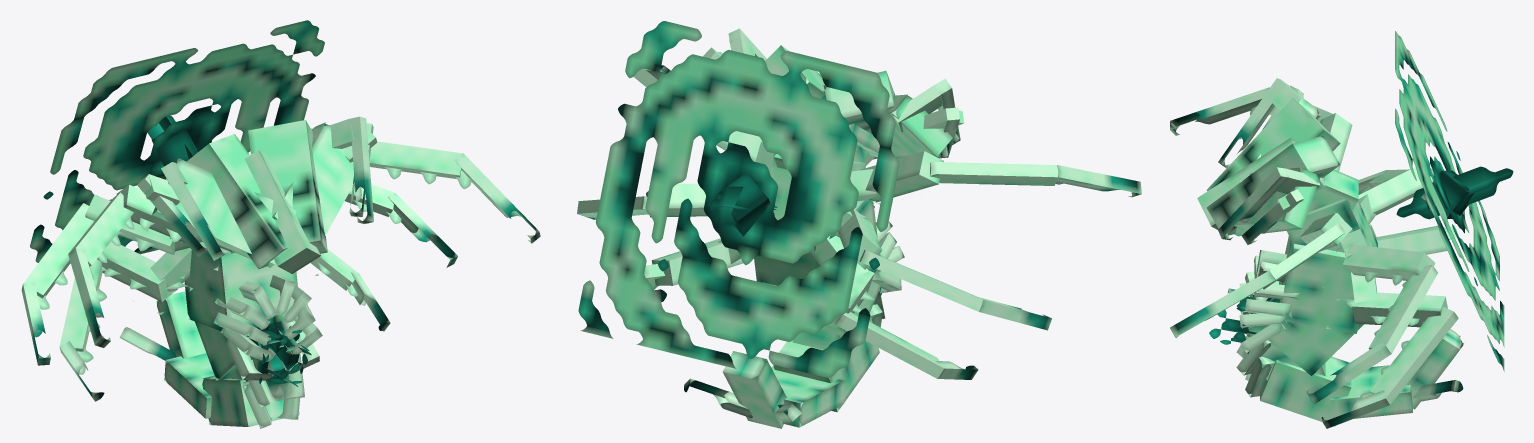
Rendered from spectre.obj.
3 views of the same model, side by side, from view 1: azimuth 30°, elevation 25°; view 2: azimuth 150°, elevation 25°; view 3: azimuth 270°, elevation 25° (orthographic). The views are drawn at different scales.
Visible parts, largest first — view 1: Effect01, Head, Body, ArmRightBottom, ArmRightTop, ArmRightMiddle, ArmLeftTop, MouthLeftTop, ArmLeftMiddle, MawRight04, MouthRightBottom, ArmLeftBottom (+10 smaller); view 2: Effect01, Body, ArmRightTop, Head, ArmRightMiddle, ArmRightBottom, ArmLeftBottom, ArmLeftMiddle, MouthRightTop, ArmLeftTop, MouthRightBottom, MawRight04 (+1 smaller); view 3: Body, Effect01, Head, ArmLeftMiddle, ArmLeftBottom, ArmLeftTop, ArmRightTop, ArmRightMiddle, MouthLeftTop, MawLeft04, MouthRightTop, ArmRightBottom (+6 smaller).
Part boxes in pixels (x1=…): Effect01: x1=30, y1=20, x2=324, y2=263; Head: x1=152, y1=120, x2=354, y2=273; Body: x1=119, y1=242, x2=299, y2=426; ArmRightBottom: x1=59, y1=241, x2=192, y2=401; ArmRightTop: x1=68, y1=184, x2=218, y2=347; ArmRightMiddle: x1=21, y1=195, x2=202, y2=365; ArmLeftTop: x1=369, y1=141, x2=540, y2=243; MouthLeftTop: x1=330, y1=116, x2=373, y2=223; ArmLeftMiddle: x1=345, y1=184, x2=457, y2=267; MawRight04: x1=225, y1=338, x2=284, y2=428; MouthRightBottom: x1=137, y1=174, x2=207, y2=256; ArmLeftBottom: x1=310, y1=249, x2=390, y2=331; Effect01: x1=578, y1=21, x2=899, y2=378; Body: x1=684, y1=145, x2=880, y2=428; ArmRightTop: x1=850, y1=151, x2=1141, y2=204; Head: x1=765, y1=45, x2=952, y2=165; ArmRightMiddle: x1=833, y1=209, x2=1051, y2=330; ArmRightBottom: x1=810, y1=236, x2=978, y2=379; ArmLeftBottom: x1=644, y1=238, x2=742, y2=302; ArmLeftMiddle: x1=577, y1=183, x2=707, y2=219; MouthRightTop: x1=891, y1=78, x2=960, y2=144; ArmLeftTop: x1=633, y1=65, x2=773, y2=173; MouthRightBottom: x1=923, y1=107, x2=964, y2=158; MawRight04: x1=869, y1=271, x2=901, y2=327; Body: x1=1248, y1=169, x2=1463, y2=426; Effect01: x1=1395, y1=31, x2=1513, y2=371; Head: x1=1197, y1=97, x2=1340, y2=236; ArmLeftMiddle: x1=1306, y1=229, x2=1437, y2=404; ArmLeftBottom: x1=1321, y1=272, x2=1458, y2=428; ArmLeftTop: x1=1170, y1=213, x2=1352, y2=337; ArmRightTop: x1=1170, y1=87, x2=1352, y2=171; ArmRightMiddle: x1=1358, y1=167, x2=1434, y2=224; MouthLeftTop: x1=1218, y1=167, x2=1320, y2=240; MawLeft04: x1=1236, y1=322, x2=1285, y2=397; MouthRightTop: x1=1218, y1=78, x2=1320, y2=168; ArmRightBottom: x1=1369, y1=224, x2=1458, y2=254.
Bounding box in the file's own units: 3.26 × 2.45 × 2.29.
